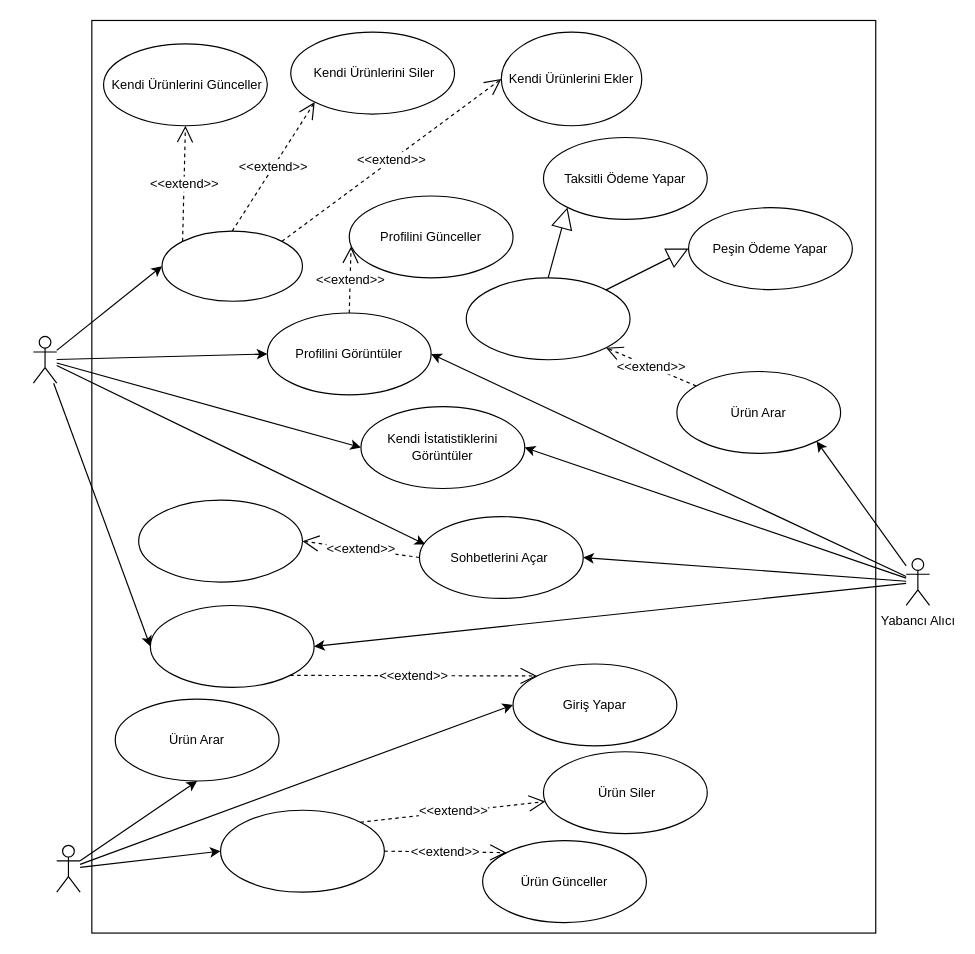
Image size: 975x954. Some labels were removed from this diagram. The centre of each missing label's shape, as x and y in pixels:
"Admin" goes at [68,868].
"Kayıt Olur" goes at [231,645].
"Kendi Ürünlerini Görüntüler" goes at [231,265].
"Mesajlaşır" goes at [219,540].
"Toptancı" goes at [44,359].
"Tüm Ürünlerini Görüntüler" goes at [301,850].
"Ürün Satın Alır" goes at [547,318].
